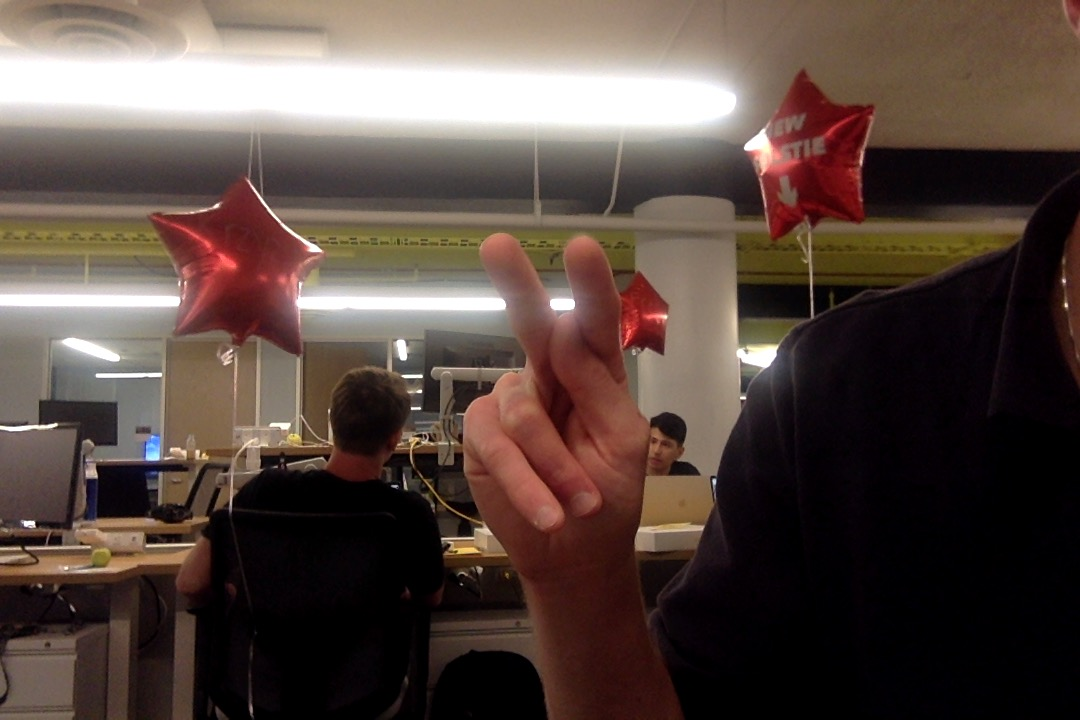k: (456, 230, 658, 570)
